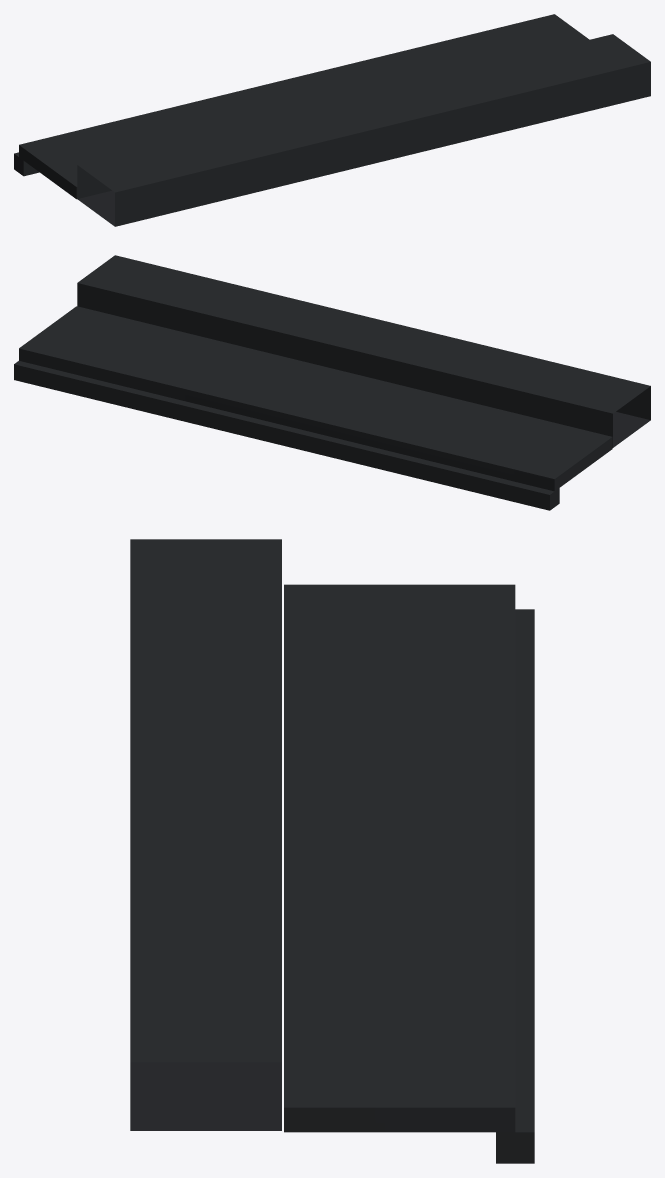
The model's file is sill.obj.
The picture shows the model from 3 angles, top to bottom: view 1: azimuth 30°, elevation 25°; view 2: azimuth 150°, elevation 25°; view 3: azimuth 270°, elevation 25°; orthographic projection. The views are drawn at different scales.
Visible parts, largest first — view 1: sill_rail, sill_flashing; view 2: sill_flashing, sill_rail, sill_drip; view 3: sill_flashing, sill_rail, sill_drip.
Part boxes in pixels (box(x1,y1,x2,y2)): sill_rail: box(77, 34, 650, 226); sill_flashing: box(19, 14, 589, 199); sill_flashing: box(19, 306, 612, 491); sill_rail: box(77, 255, 650, 447); sill_drip: box(14, 361, 559, 510); sill_flashing: box(284, 584, 515, 1132); sill_rail: box(130, 539, 281, 1130); sill_drip: box(496, 609, 534, 1163).
Bounding box in the file's own units: 1 × 0.0906 × 0.3269.
